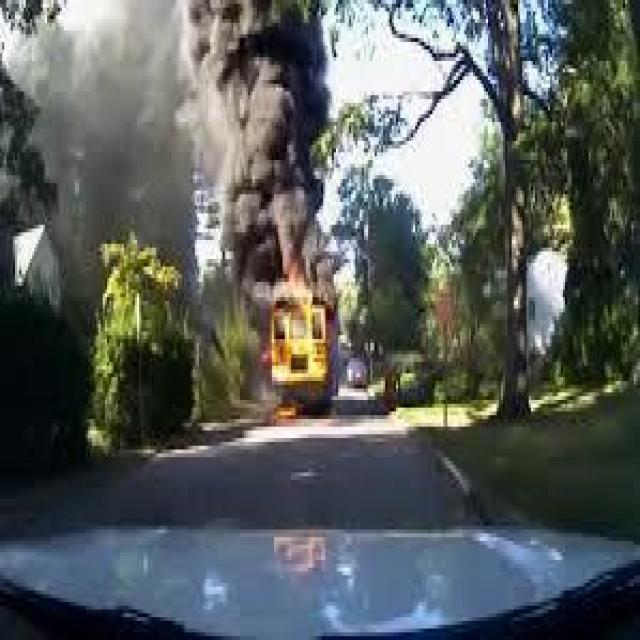smoke: (168, 3, 356, 287)
